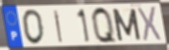1: (76, 8, 92, 44)
I: (53, 9, 64, 44)
M: (110, 8, 143, 43)
O: (21, 8, 46, 46)
Q: (90, 5, 119, 45)
X: (136, 5, 163, 43)
